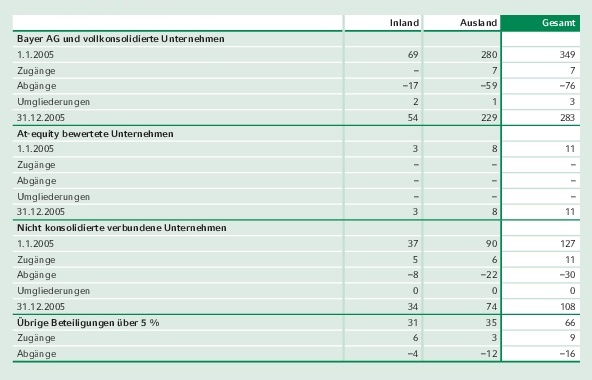table: (0, 0, 592, 380)
